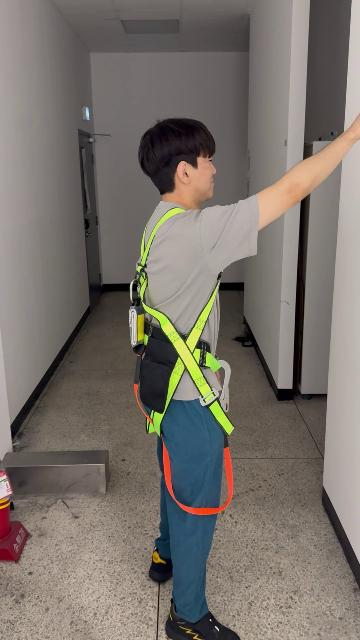helmet_not_worn: (138, 114, 219, 201)
shoe_worn: (165, 601, 240, 640), (148, 546, 173, 583)
vest_worn: (129, 217, 240, 508)
